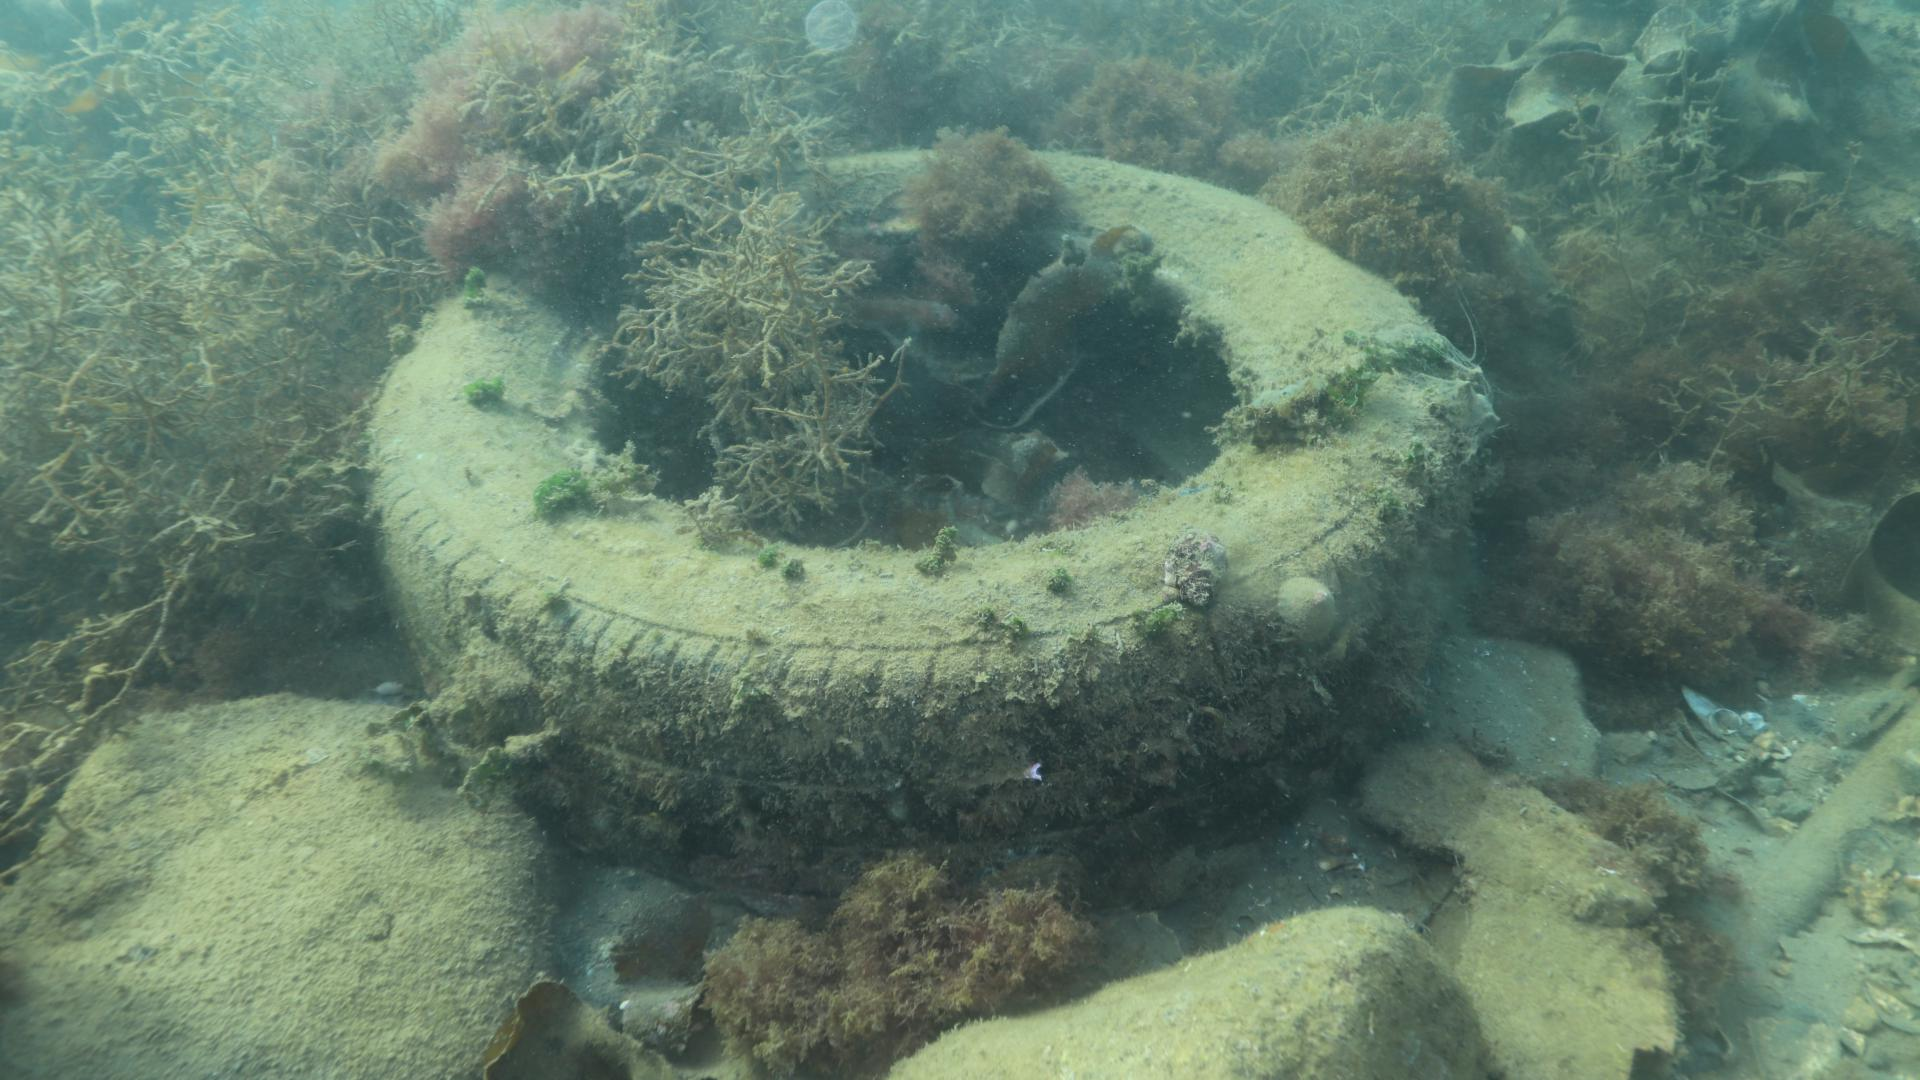tire: (364, 140, 1472, 903)
